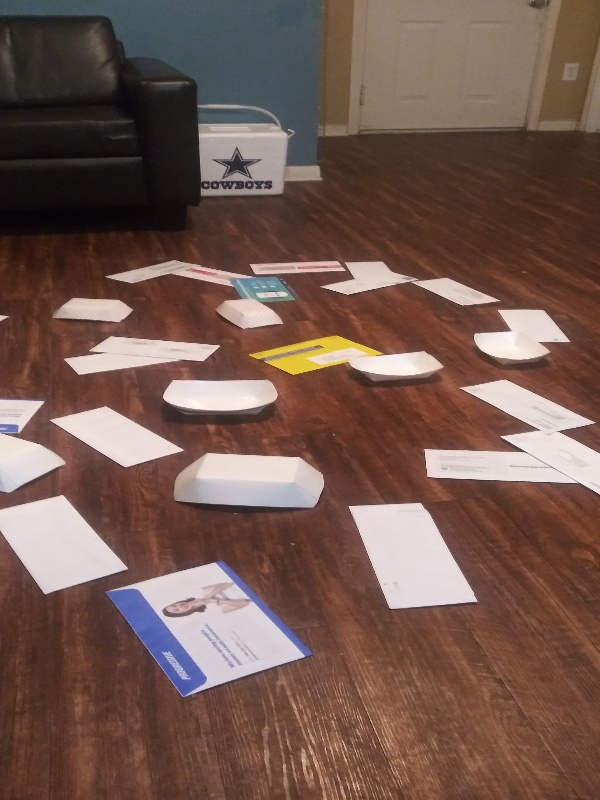plate: (169, 453, 326, 513), (157, 373, 281, 425), (1, 425, 71, 500), (343, 349, 446, 388), (471, 329, 553, 371), (47, 296, 136, 329), (212, 295, 285, 334)
